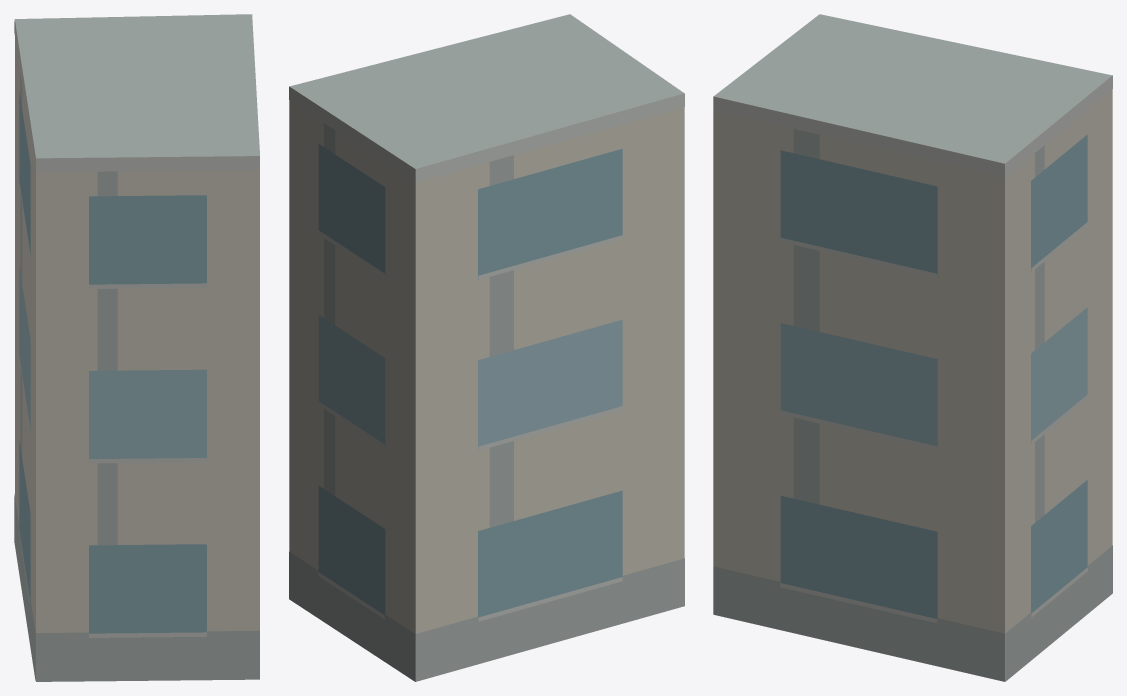
The model's file is survey-upis-32741531.glb.
3 views of the same model, side by side, from view 1: azimuth 30°, elevation 25°; view 2: azimuth 150°, elevation 25°; view 3: azimuth 270°, elevation 25° (orthographic). The views are drawn at different scales.
Parts seen in each view (by area): view 1: survey-upis-32741531.tmp; view 2: survey-upis-32741531.tmp; view 3: survey-upis-32741531.tmp.
Boxes of the visible parts, left/top/right/bottom form: survey-upis-32741531.tmp: left=14, top=14, right=259, bottom=681; survey-upis-32741531.tmp: left=289, top=14, right=684, bottom=681; survey-upis-32741531.tmp: left=713, top=14, right=1112, bottom=681.
Bounding box in the file's own units: 5.68 × 9.15 × 6.4.
